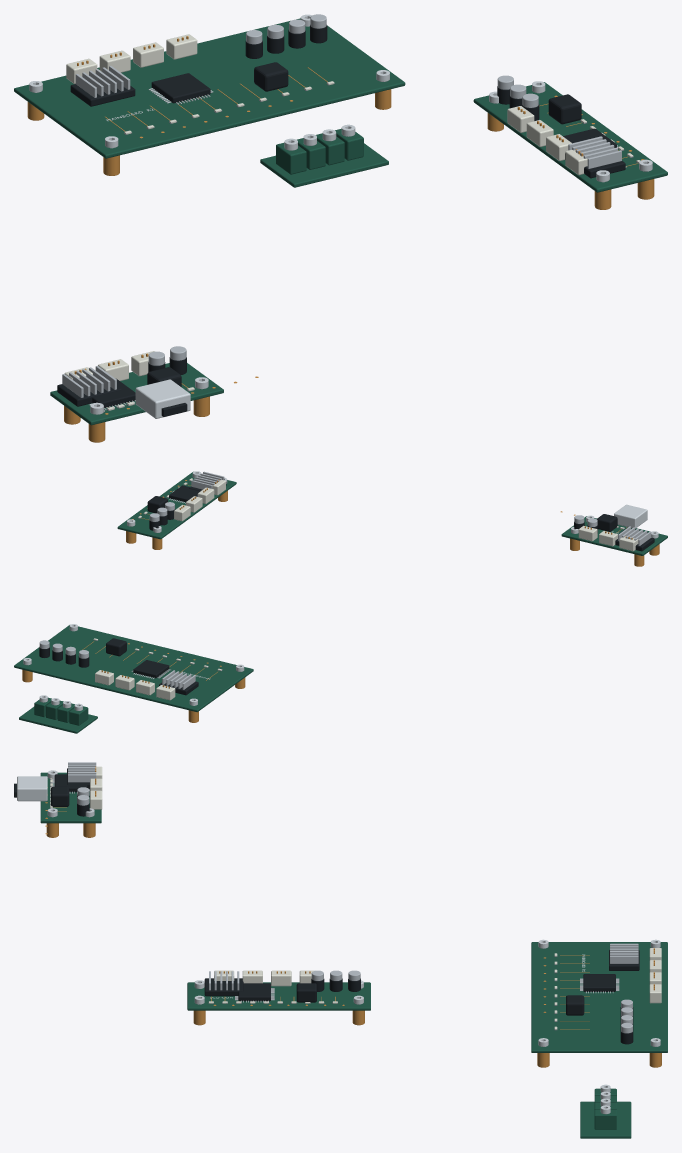
Rendered from electronics.glb.
The picture shows the model from 3 angles, top to bottom: view 1: azimuth 30°, elevation 25°; view 2: azimuth 150°, elevation 25°; view 3: azimuth 270°, elevation 25°; orthographic projection. The views are drawn at different scales.
Visible parts, largest first — view 1: PCB_Mainboard, PCB_LCD_Controller, PCB_USB_Data_Board, PCB_Power_Distribution, PRT_USB_Receptacle, PRT_Mainboard_MCU, PRT_Mainboard_Inductor, PRT_LCD_Controller_Inductor, PRT_ScrewTerminal, PRT_Mainboard_Driver, PRT_Mainboard_Connector.003, PRT_Mainboard_Connector.002; view 2: PCB_Mainboard, PCB_LCD_Controller, PCB_USB_Data_Board, PCB_Power_Distribution, PRT_USB_Receptacle, PRT_Mainboard_MCU; view 3: PCB_Mainboard, PCB_LCD_Controller, PCB_Power_Distribution, PCB_USB_Data_Board, PRT_USB_Receptacle, PRT_Mainboard_MCU, PRT_LCD_Controller_Driver, PRT_LCD_Controller_MCU.
Part boxes in pixels (x1=…): PCB_Mainboard: x1=14, y1=18, x2=405, y2=158; PCB_LCD_Controller: x1=473, y1=82, x2=667, y2=192; PCB_USB_Data_Board: x1=50, y1=363, x2=223, y2=425; PCB_Power_Distribution: x1=260, y1=143, x2=388, y2=187; PRT_USB_Receptacle: x1=135, y1=379, x2=190, y2=418; PRT_Mainboard_MCU: x1=151, y1=73, x2=210, y2=103; PRT_Mainboard_Inductor: x1=254, y1=62, x2=288, y2=91; PRT_LCD_Controller_Inductor: x1=548, y1=94, x2=581, y2=124; PRT_ScrewTerminal: x1=276, y1=143, x2=306, y2=174; PRT_Mainboard_Driver: x1=70, y1=84, x2=135, y2=106; PRT_Mainboard_Connector.003: x1=166, y1=34, x2=197, y2=59; PRT_Mainboard_Connector.002: x1=133, y1=42, x2=163, y2=67; PCB_Mainboard: x1=14, y1=625, x2=253, y2=712; PCB_LCD_Controller: x1=117, y1=471, x2=236, y2=539; PCB_USB_Data_Board: x1=561, y1=516, x2=667, y2=555; PCB_Power_Distribution: x1=19, y1=706, x2=97, y2=733; PRT_USB_Receptacle: x1=614, y1=504, x2=647, y2=528; PRT_Mainboard_MCU: x1=133, y1=660, x2=169, y2=678; PCB_Mainboard: x1=531, y1=942, x2=667, y2=1052; PCB_LCD_Controller: x1=187, y1=982, x2=370, y2=1010; PCB_Power_Distribution: x1=580, y1=1101, x2=631, y2=1138; PCB_USB_Data_Board: x1=40, y1=772, x2=101, y2=823; PRT_USB_Receptacle: x1=17, y1=776, x2=47, y2=801; PRT_Mainboard_MCU: x1=583, y1=974, x2=615, y2=991; PRT_LCD_Controller_Driver: x1=204, y1=978, x2=243, y2=996; PRT_LCD_Controller_MCU: x1=238, y1=983, x2=270, y2=1001.
Size of the model in its own units: 0.284 by 0.0828 by 0.3205.
